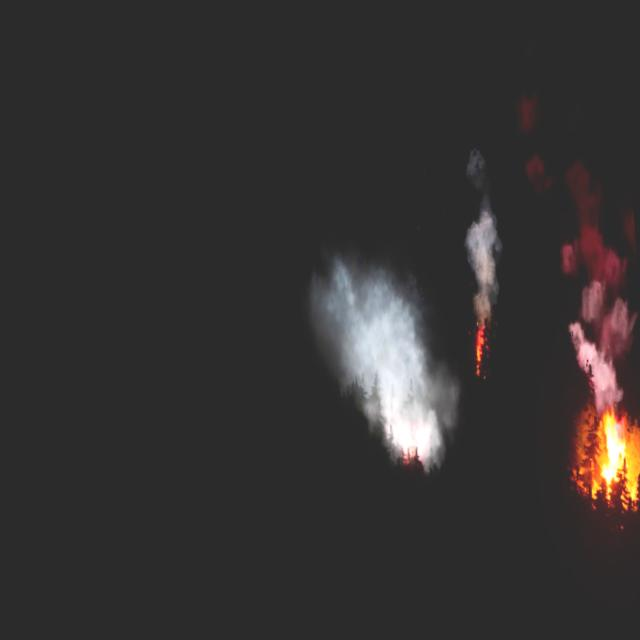fire: (593, 410, 632, 488), (474, 324, 488, 384)
smoke: (308, 254, 464, 476), (559, 226, 640, 416), (464, 210, 504, 324)
